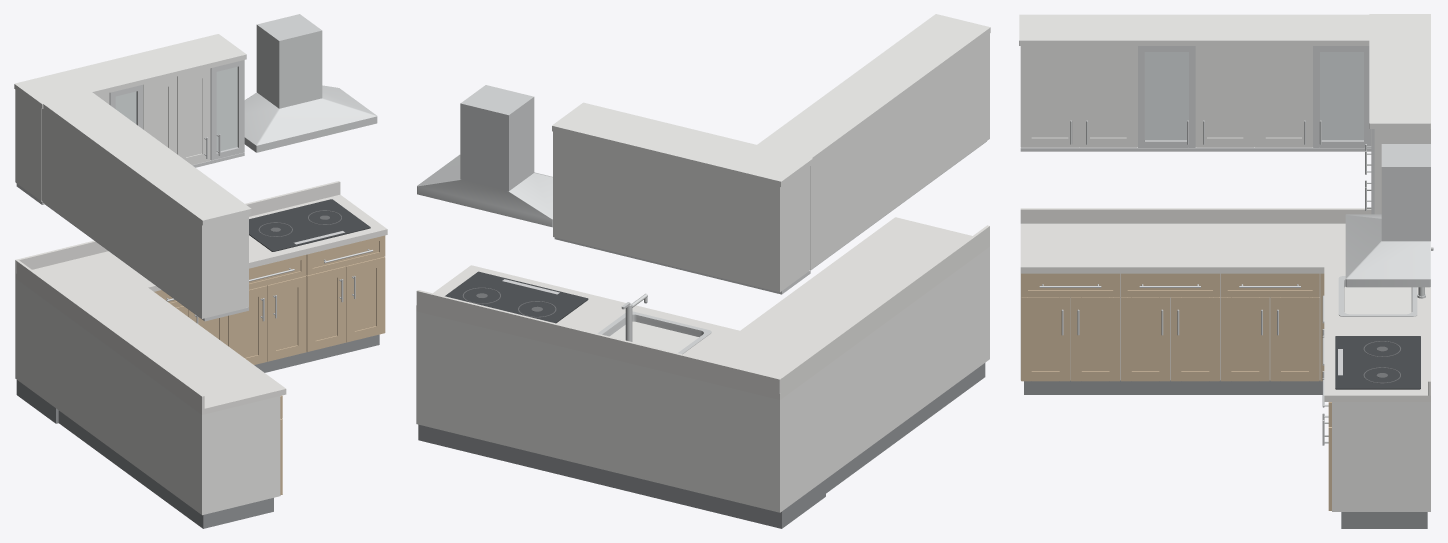
The picture shows the model from 3 angles, left to right: view 1: azimuth 30°, elevation 25°; view 2: azimuth 150°, elevation 25°; view 3: azimuth 270°, elevation 25°; orthographic projection. The views are drawn at different scales.
Visible parts, largest first — view 1: Tủ bếp chữ L Dài cạnh chính=2400; Dài cạnh phụ=2400; Sâu tủ ; view 2: Tủ bếp chữ L Dài cạnh chính=2400; Dài cạnh phụ=2400; Sâu tủ ; view 3: Tủ bếp chữ L Dài cạnh chính=2400; Dài cạnh phụ=2400; Sâu tủ .
Boxes of the visible parts, left/top/right/bottom form: Tủ bếp chữ L Dài cạnh chính=2400; Dài cạnh phụ=2400; Sâu tủ : left=14, top=14, right=387, bottom=528; Tủ bếp chữ L Dài cạnh chính=2400; Dài cạnh phụ=2400; Sâu tủ : left=416, top=14, right=990, bottom=528; Tủ bếp chữ L Dài cạnh chính=2400; Dài cạnh phụ=2400; Sâu tủ : left=1019, top=14, right=1433, bottom=528.
Bounding box in the file's own units: 2.41 × 2.2 × 2.42.
